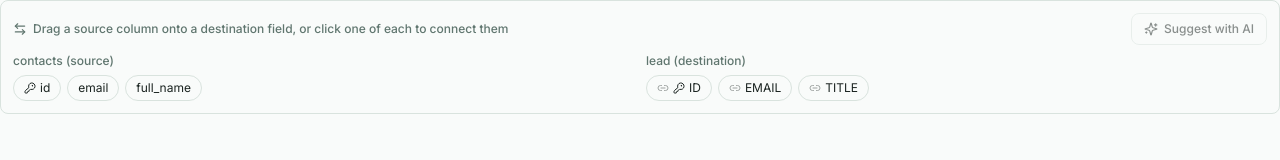
MappingBoard › clicking the armed source column again cancels the selection
The image size is (1280, 160).
Click the button "email" at (93,88), box left=67, top=75, right=119, bottom=101
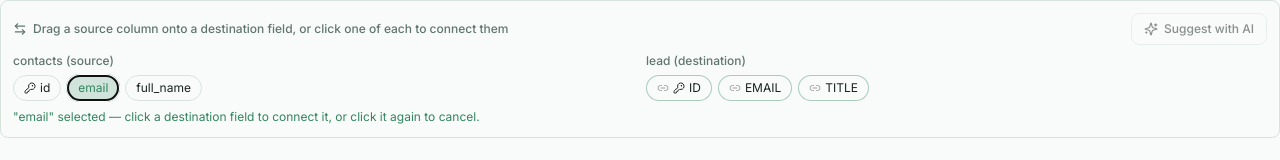
expect the text "\"email\" selected" is shown: met, box left=13, top=109, right=480, bottom=124
Click the button "email" at (93,88), box left=67, top=75, right=119, bottom=101
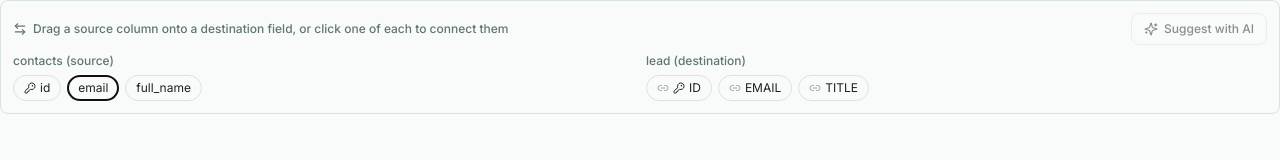
expect the text "\"email\" selected" is gone: met
